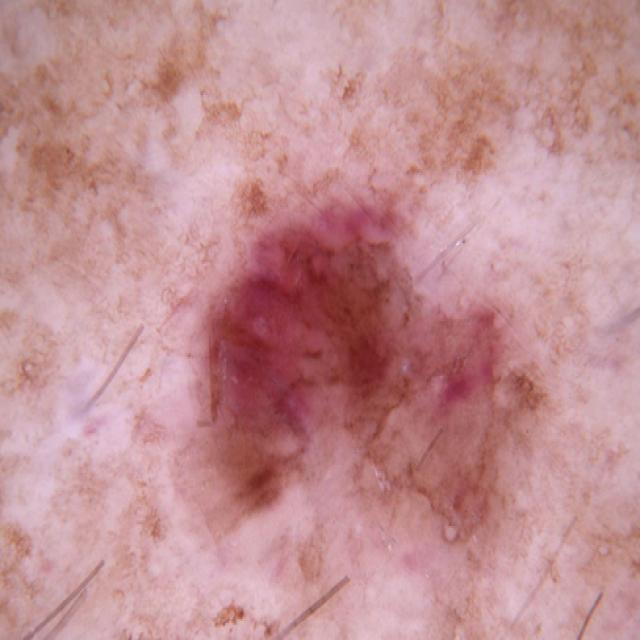Carcinoma: (157, 170, 563, 570)
